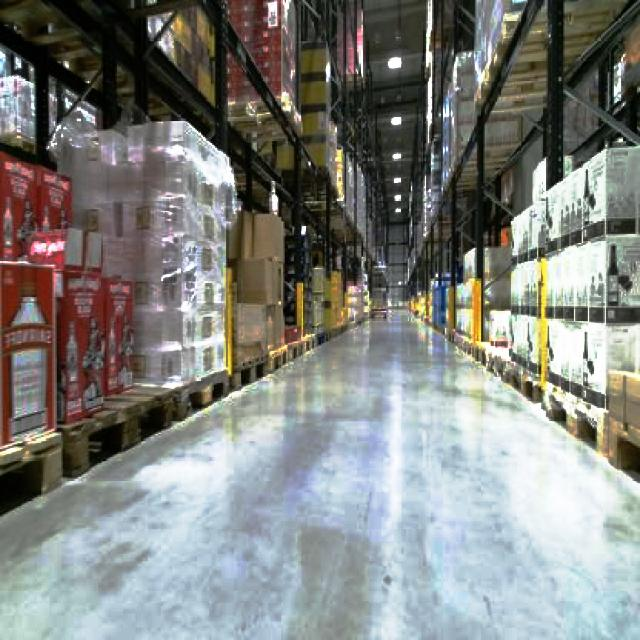ground: (0, 303, 638, 638)
pallet: (0, 103, 366, 549), (406, 0, 638, 637), (443, 134, 638, 494), (605, 366, 638, 497), (368, 295, 388, 318), (369, 306, 386, 318)
